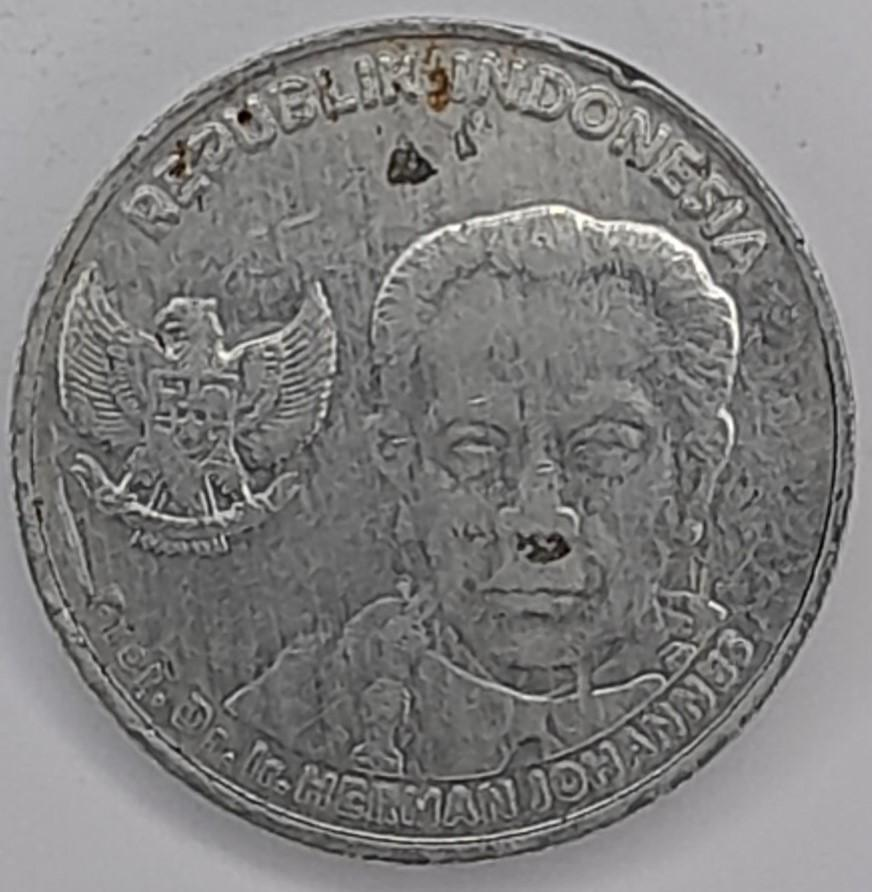coin_100_e2016: (2, 9, 862, 868)
